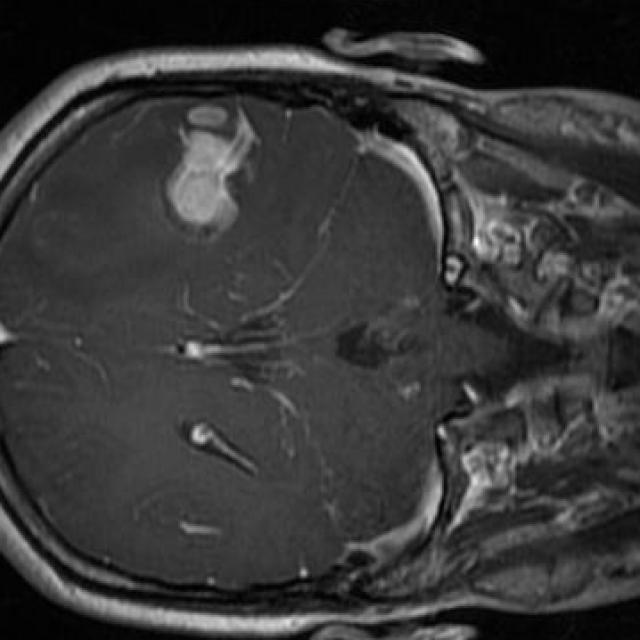glioma: (164, 102, 258, 237)
